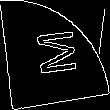M_W: (30, 29, 80, 81)
